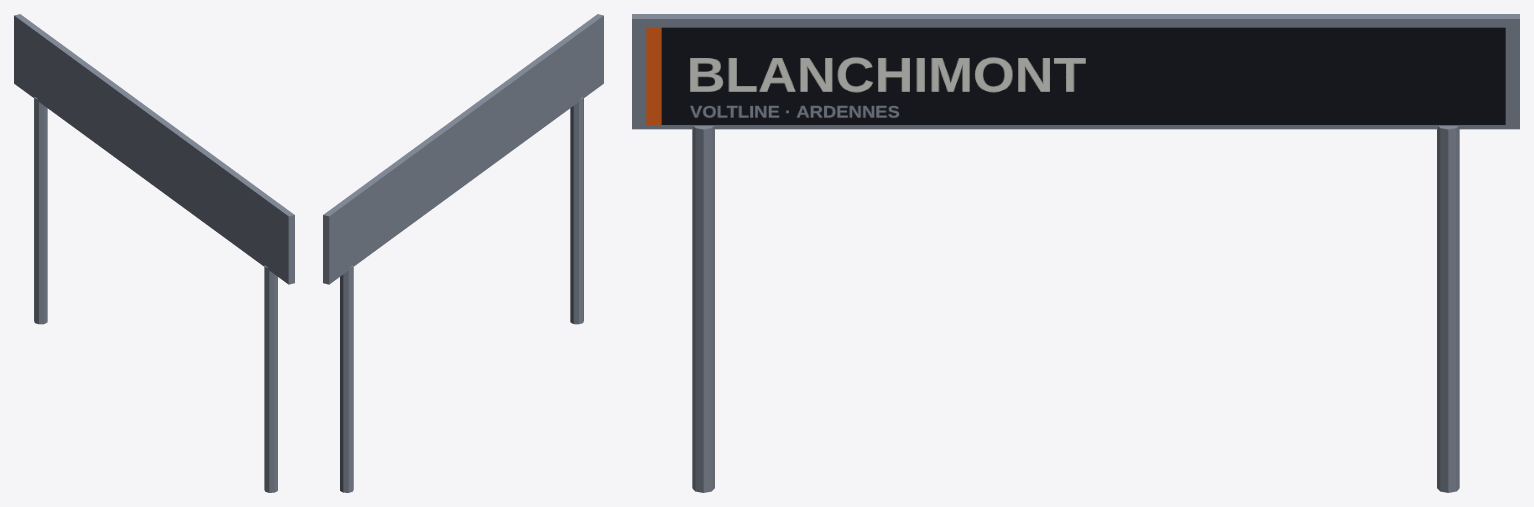
Rendered from corner_sign_blanchimont.glb.
3 renders of one model, left to right at view 1: azimuth 30°, elevation 25°; view 2: azimuth 150°, elevation 25°; view 3: azimuth 270°, elevation 25°, orthographic. The views are drawn at different scales.
Parts seen in each view (by area): view 1: cornersign; view 2: cornersign; view 3: cornersign.
Boxes of the visible parts, x1,y1,x2,y2 form: cornersign: (14,14,294,492); cornersign: (323,14,603,492); cornersign: (632,14,1519,492).
Size of the model in its own units: 0.16 by 3.62 by 6.2.
Materials: 2 (1 with a texture image).
